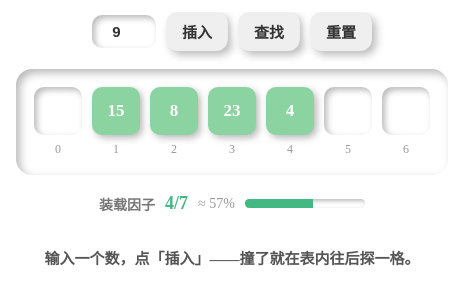
Scenario: HashProbeViz 开放寻址互动 › TC-VIZ-PROBEVIZ-06 查找 99（未命中）：status 含「不在表中」
Replace the text in the number field named "值" with "99" at (124, 32), box [92,15,156,48]
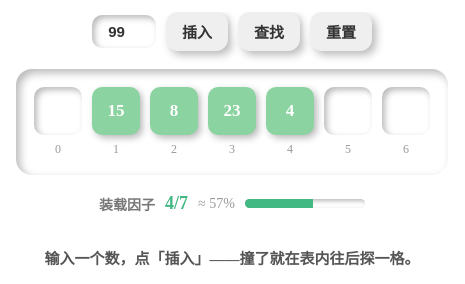
Click the button "查找" at (269, 32), box [238,12,300,51]
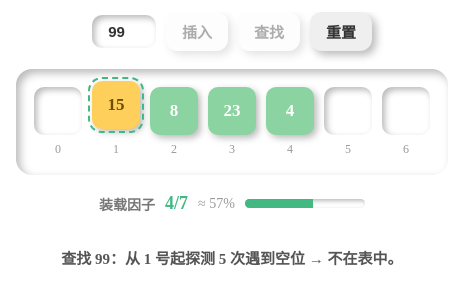
Check: the message with class "status" shows "不在表中", box [61,251,403,267]
